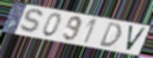0: (41, 12, 63, 38)
1: (82, 17, 98, 45)
9: (62, 15, 83, 42)
D: (99, 21, 123, 49)
S: (18, 8, 45, 35)
V: (125, 24, 148, 53)
